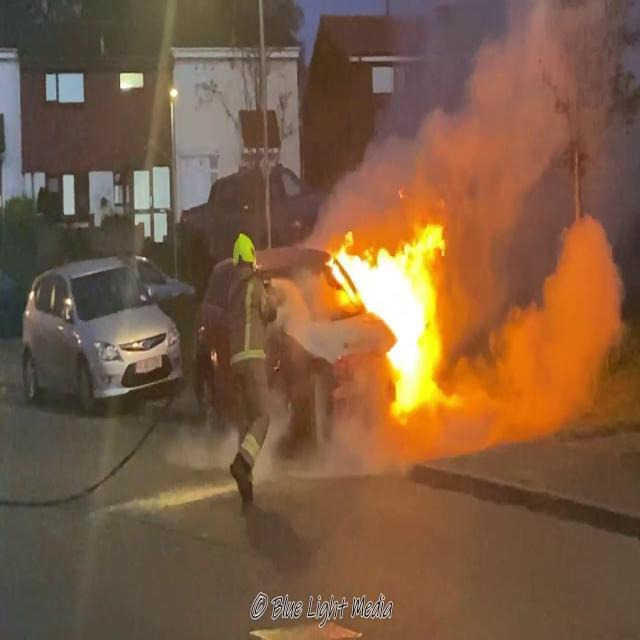Fire: (320, 216, 460, 418)
Smoke: (426, 1, 640, 439)
